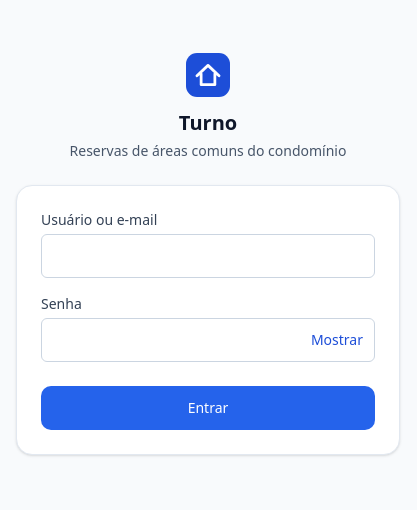
Test: LoginPage › 423 (conta bloqueada) mostra o detail vindo do backend
Step 1. Type "a-1203" into the field labelled "Usuário ou e-mail" → (208, 256), box [41,234,375,278]
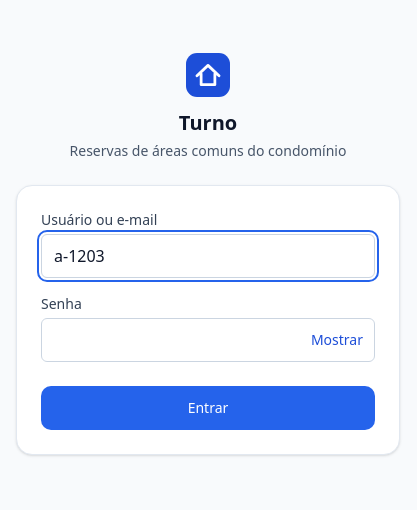
Step 2. Type "senha123" into the password field labelled "Senha" → (208, 340), box [41,318,375,362]
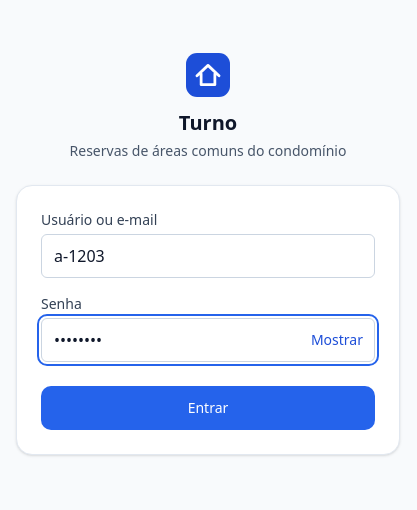
Step 3. Click the button "Entrar" → (208, 408), box [41,386,375,430]
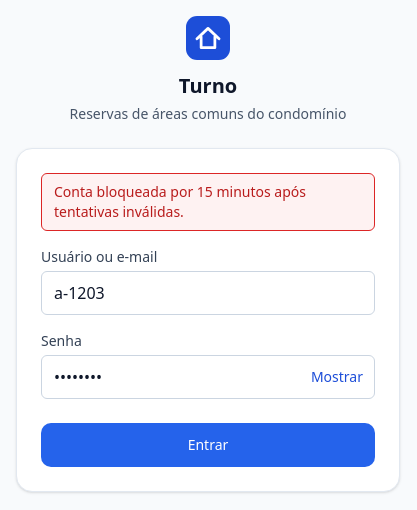
Now the text "Conta bloqueada por 15 minutos após tentativas inválidas." is shown, box [41,173,375,231]
